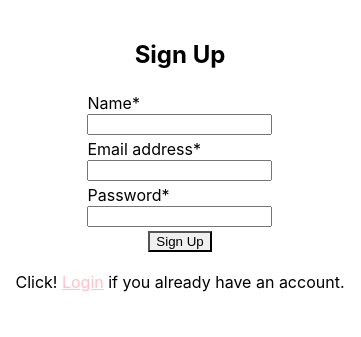
Scenario: SignUpPage › displays error message for invalid password format
The width and height of the screenshot is (361, 337).
In the password field with test id "password": {"x": 180, "y": 216} 88,206 -> 272,227, type "invalidpassword"
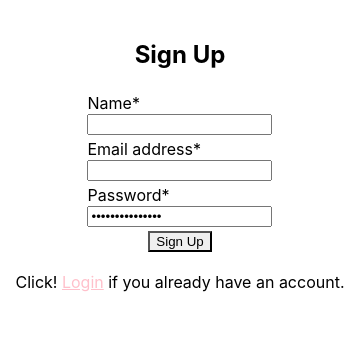
Click the button with test id "signupBtn": {"x": 180, "y": 241} 148,231 -> 212,252
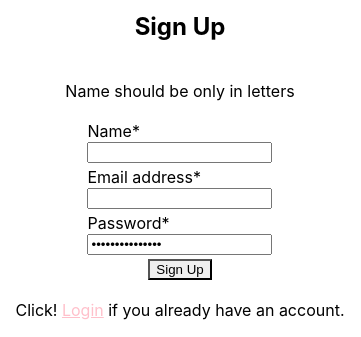
Expected: the text with test id "error" is shown, 65,81 -> 295,101
